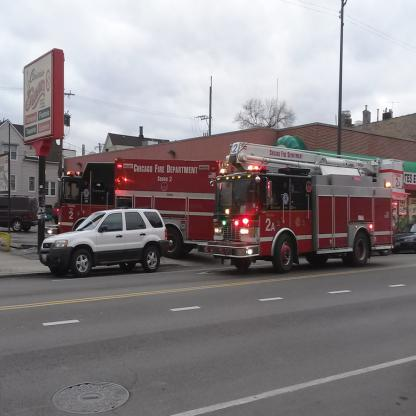Truck: (206, 140, 394, 274), (59, 157, 236, 257)
